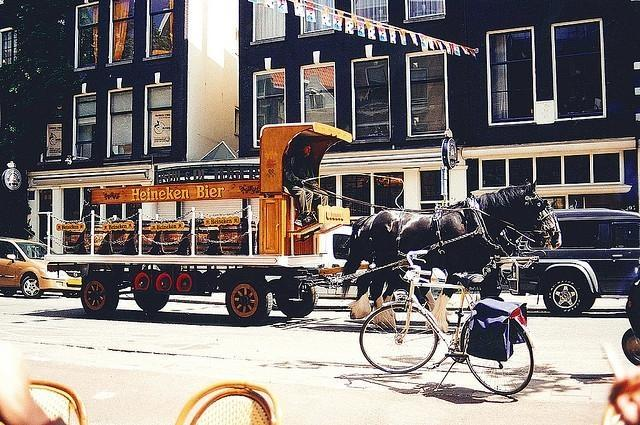bicycle: (358, 248, 534, 406)
car: (505, 208, 640, 317), (1, 236, 83, 297)
